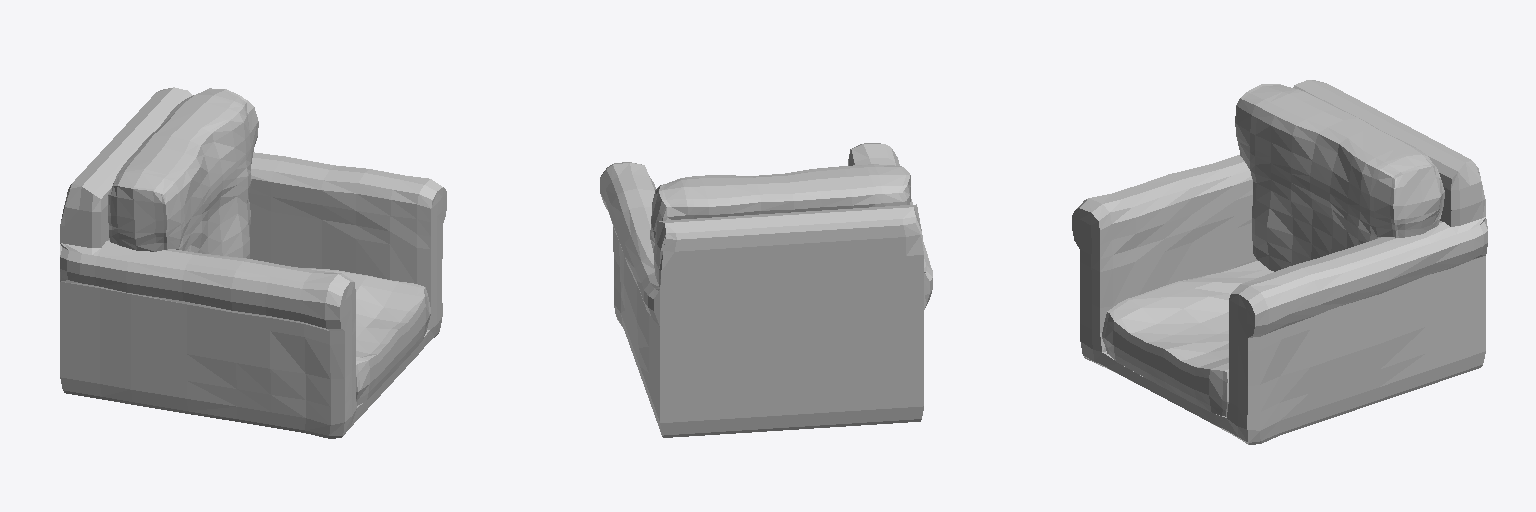
Rendered from Chair.obj.
The picture shows the model from 3 angles: view 1: azimuth 30°, elevation 25°; view 2: azimuth 150°, elevation 25°; view 3: azimuth 270°, elevation 25°; orthographic projection.
Parts seen in each view (by area): view 1: Chair; view 2: Chair; view 3: Chair.
Boxes of the visible parts, x1,y1,x2,y2 form: Chair: [60, 87, 446, 438]; Chair: [600, 143, 932, 437]; Chair: [1072, 80, 1487, 444].
Bounding box in the file's own units: 16.61 × 9.75 × 16.74.